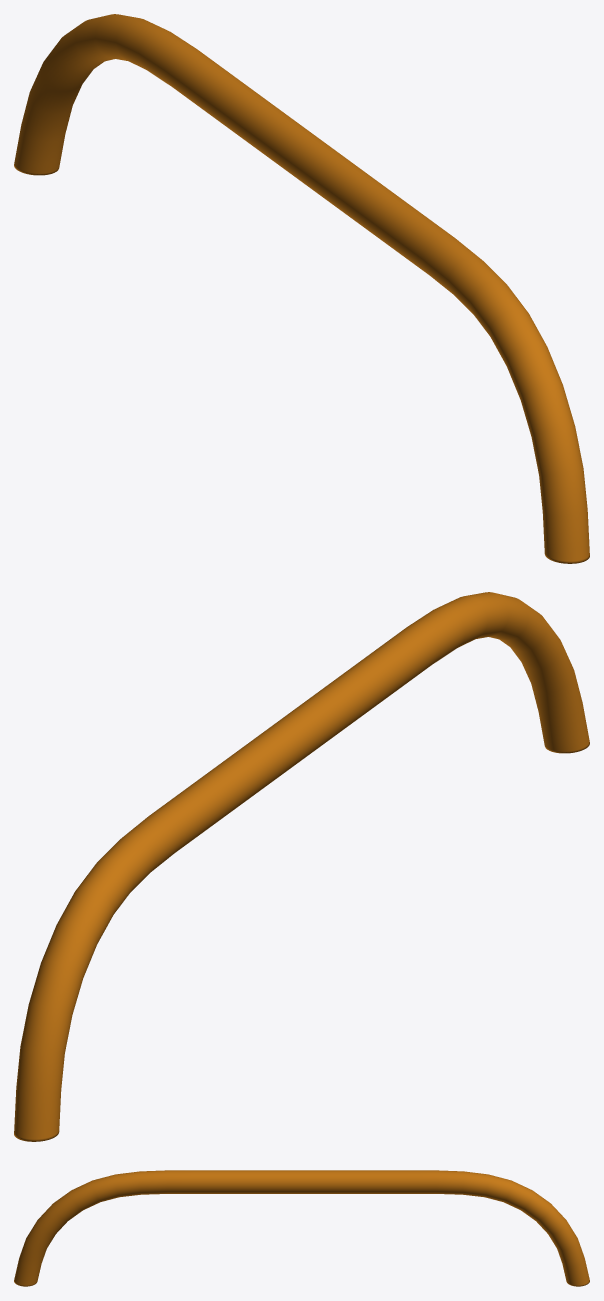
File: BmetalBar01.fbx
3 renders of one model, top to bottom at view 1: azimuth 30°, elevation 25°; view 2: azimuth 150°, elevation 25°; view 3: azimuth 270°, elevation 25°, orthographic. The views are drawn at different scales.
Visible parts, largest first — view 1: Cylinder008; view 2: Cylinder008; view 3: Cylinder008.
Boxes of the visible parts, bbox=[...] form: Cylinder008: bbox=[14, 14, 589, 563]; Cylinder008: bbox=[14, 592, 589, 1141]; Cylinder008: bbox=[14, 1170, 589, 1286].
Size of the model in its own units: 8.32 by 34.11 by 157.
